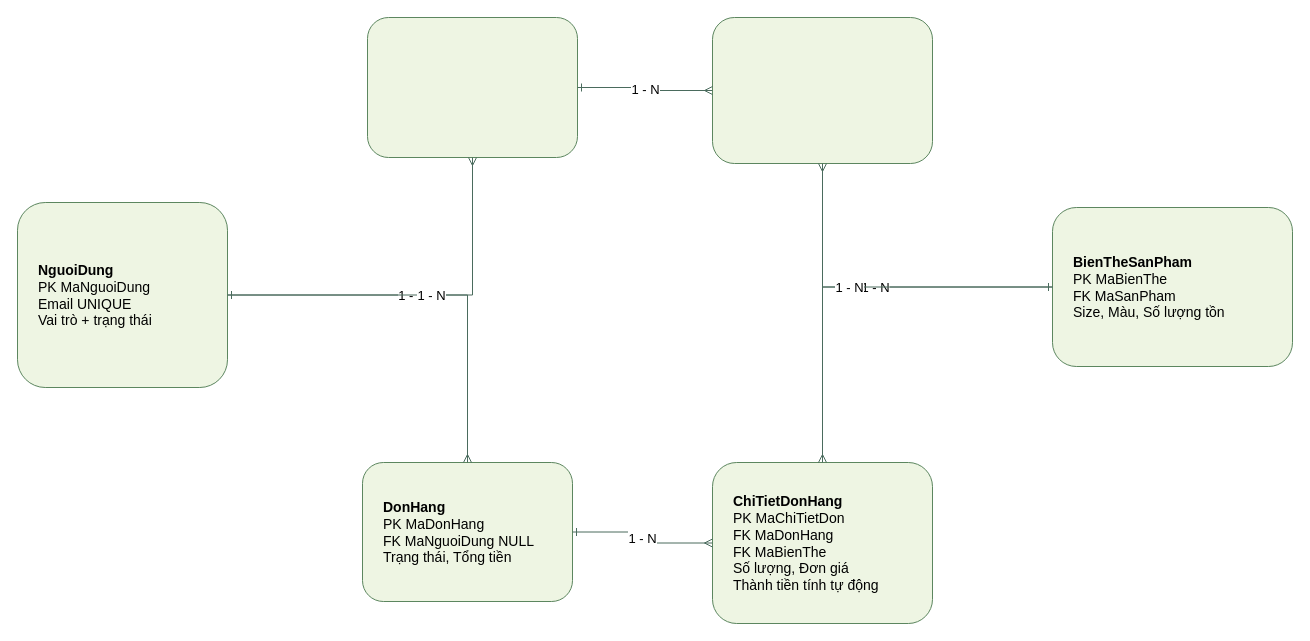
Image size: 1310x641. Some labels were removed from this diagram. Each missing label, with the centre of its shape:
"ChiTietGioHang PK MaChiTietGioHang FK MaGioHang FK MaBienThe SoLuong > 0" belongs at point 822,90.
"GioHang PK MaGioHang FK MaNguoiDung UNIQUE Ngày tạo" belongs at point 472,87.
